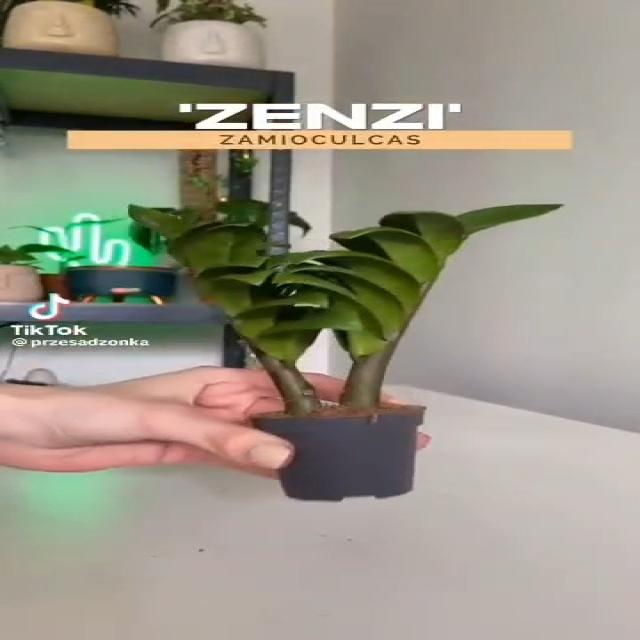roslina_zdrowa: (126, 198, 563, 362)
